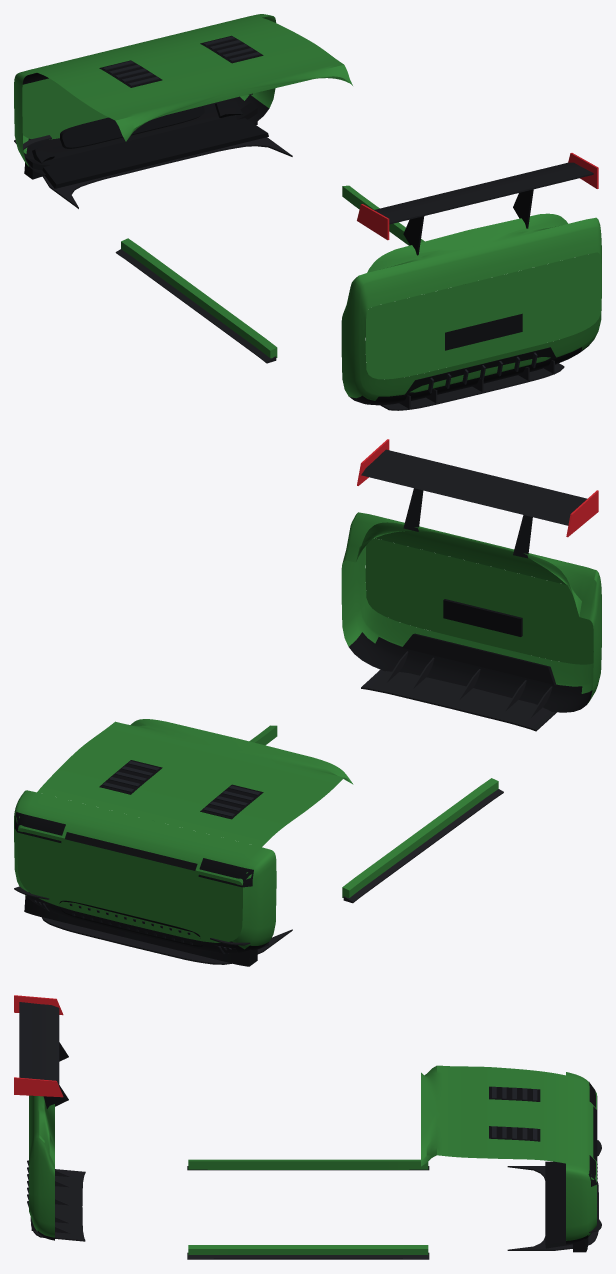
Rendered from kit_track.glb.
3 views of the same model, one above another, from view 1: azimuth 30°, elevation 25°; view 2: azimuth 150°, elevation 25°; view 3: azimuth 270°, elevation 25° (orthographic). The views are drawn at different scales.
Visible parts, largest first — view 1: bumper_front__track, bumper_rear__track, hood__track, spoiler__track, skirts__track; view 2: bumper_front__track, bumper_rear__track, hood__track, spoiler__track, skirts__track; view 3: hood__track, bumper_front__track, skirts__track, bumper_rear__track, spoiler__track.
Boxes of the visible parts, x1,y1,x2,y2 form: bumper_front__track: (14, 14, 601, 379); bumper_rear__track: (341, 213, 601, 410); hood__track: (37, 18, 352, 141); spoiler__track: (357, 153, 598, 255); skirts__track: (115, 185, 424, 363); bumper_front__track: (14, 538, 593, 966); bumper_rear__track: (341, 512, 601, 731); hood__track: (37, 719, 353, 847); spoiler__track: (357, 439, 598, 558); skirts__track: (249, 725, 503, 903); hood__track: (421, 1065, 565, 1166); bumper_front__track: (507, 1072, 601, 1252); skirts__track: (187, 1159, 429, 1259); bumper_rear__track: (27, 1095, 85, 1241); spoiler__track: (14, 995, 68, 1108).
Size of what is drawn, in the model's own units: 1.76 by 1.46 by 4.4.
